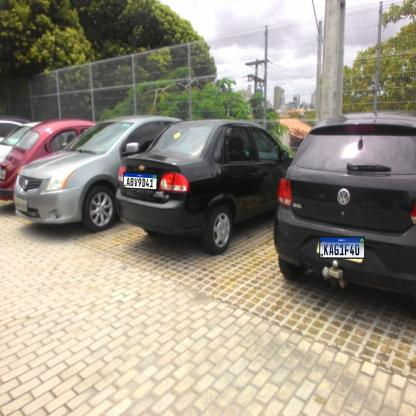PlacaM: (319, 236, 365, 259), (123, 172, 157, 190)
